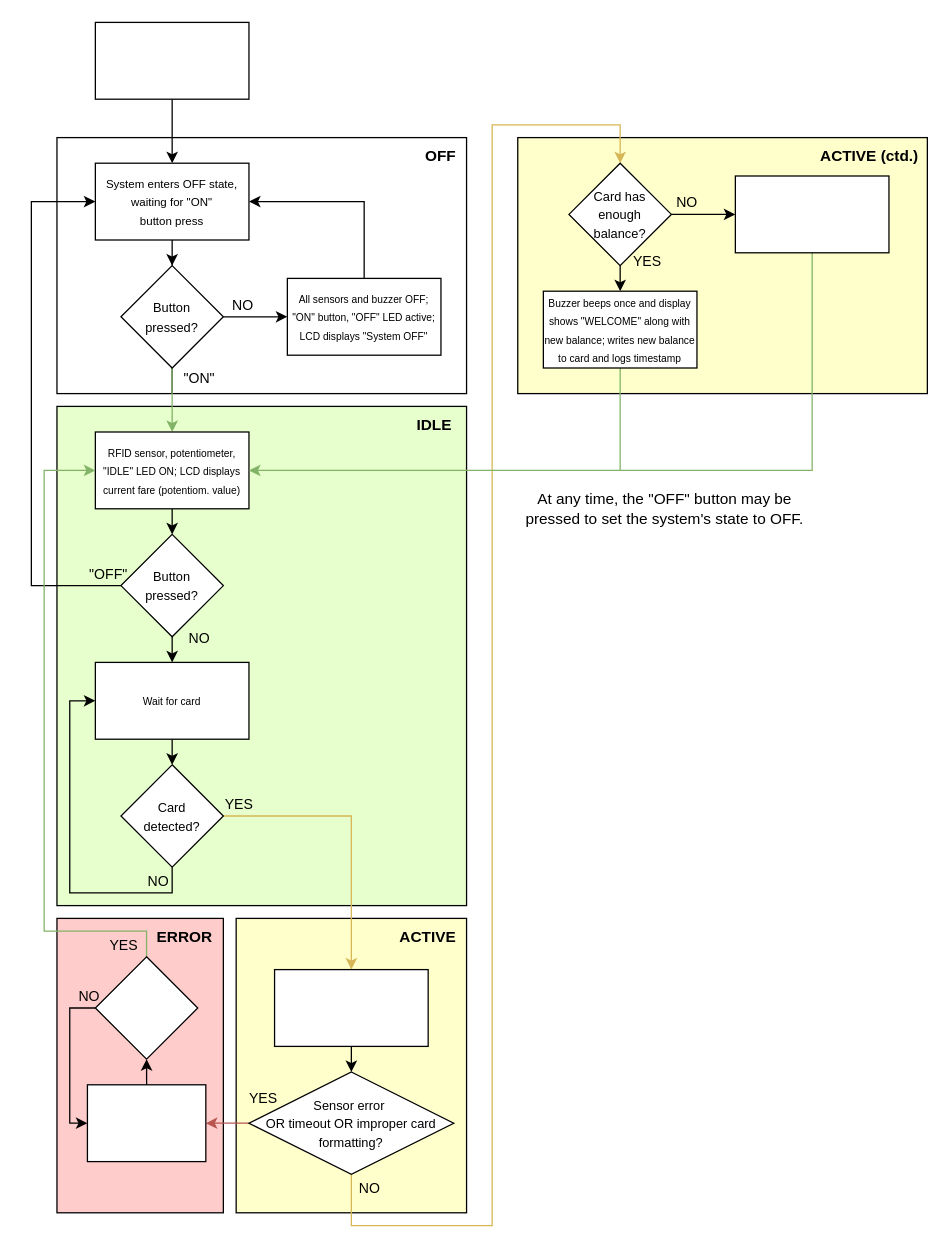
Image size: 950x1258. Some labels were removed from this diagram. The box of each missing label's shape, as (x1, y1, x2, y2) in pixels:
"RESET" button pressed?: (94, 956, 198, 1059)
Buzzer beeps twice and display shows "INSUFFICIENT BALANCE"; logs timestamp: (734, 175, 889, 253)
Read card and potentiometer values; "ACTIVE" LED ON: (273, 968, 428, 1046)
STOP all processes; "ERROR" LED on, LCD shows "SYSTEM ERROR"; log timestamp: (86, 1084, 206, 1162)
System initializes (first boot): (94, 21, 249, 99)
